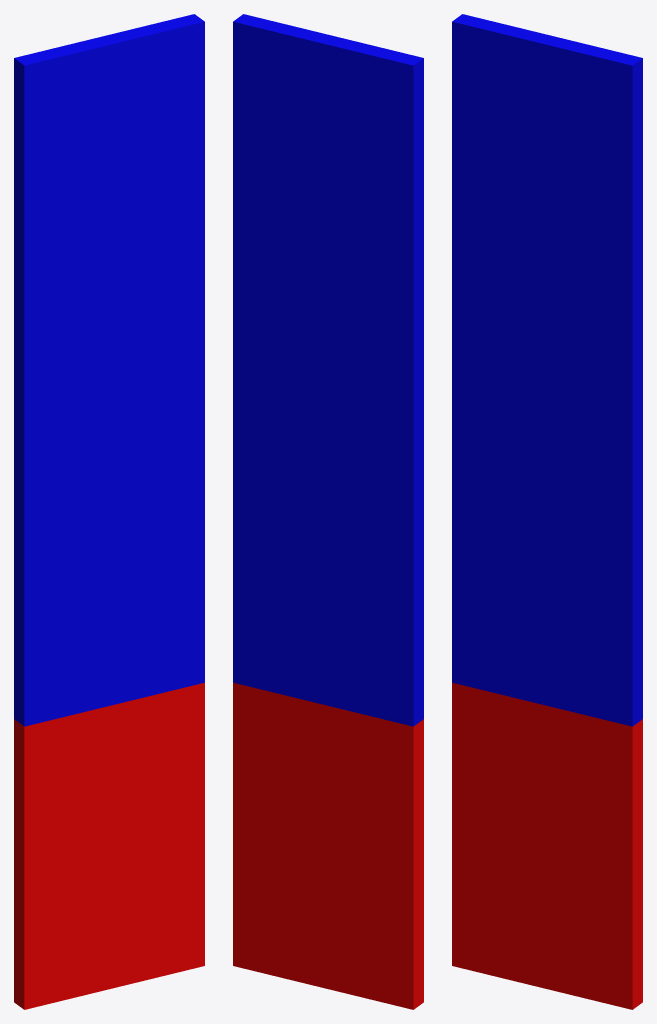
3 renders of one model, left to right at view 1: azimuth 30°, elevation 25°; view 2: azimuth 150°, elevation 25°; view 3: azimuth 330°, elevation 25°, orthographic.
Parts seen in each view (by area): view 1: SM_200Lx20Dx1000H; view 2: SM_200Lx20Dx1000H; view 3: SM_200Lx20Dx1000H.
Part boxes in pixels (left/top/right/bottom): SM_200Lx20Dx1000H: left=14, top=14, right=204, bottom=1009; SM_200Lx20Dx1000H: left=233, top=14, right=423, bottom=1009; SM_200Lx20Dx1000H: left=452, top=14, right=642, bottom=1009.
Bounding box in the file's own units: 200 × 1000 × 20.
